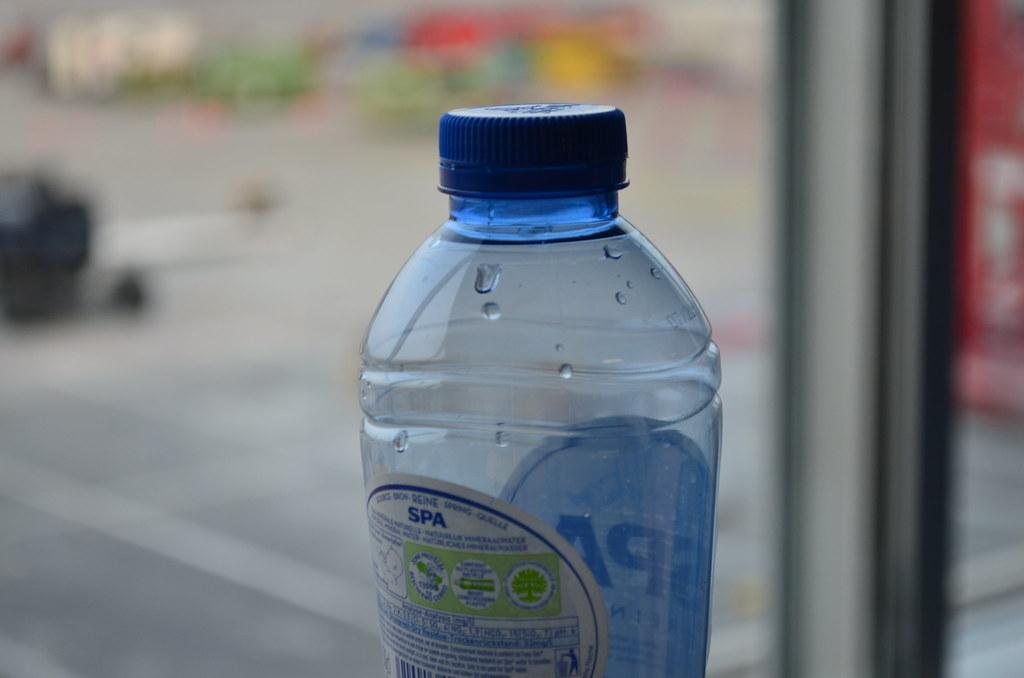bottle: (358, 102, 725, 678)
